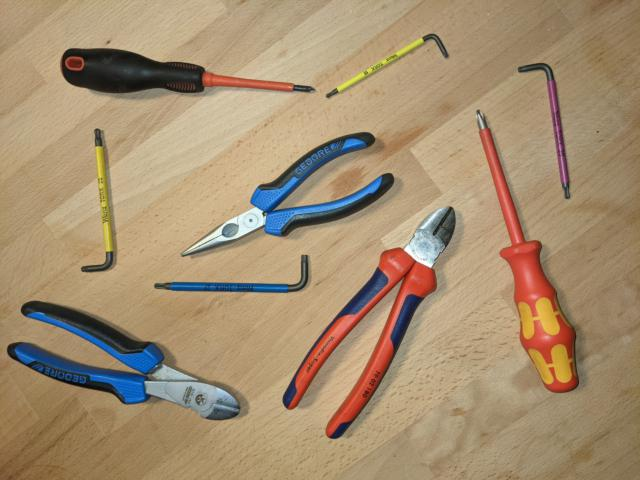Inbusschlüssel: (323, 30, 451, 102), (516, 59, 574, 203), (152, 251, 312, 295), (76, 126, 120, 276)
Schraubendreher: (473, 105, 584, 395), (59, 44, 319, 97)
Seitenschneider: (279, 202, 459, 442), (4, 297, 245, 424)
Zange: (176, 128, 399, 263)
